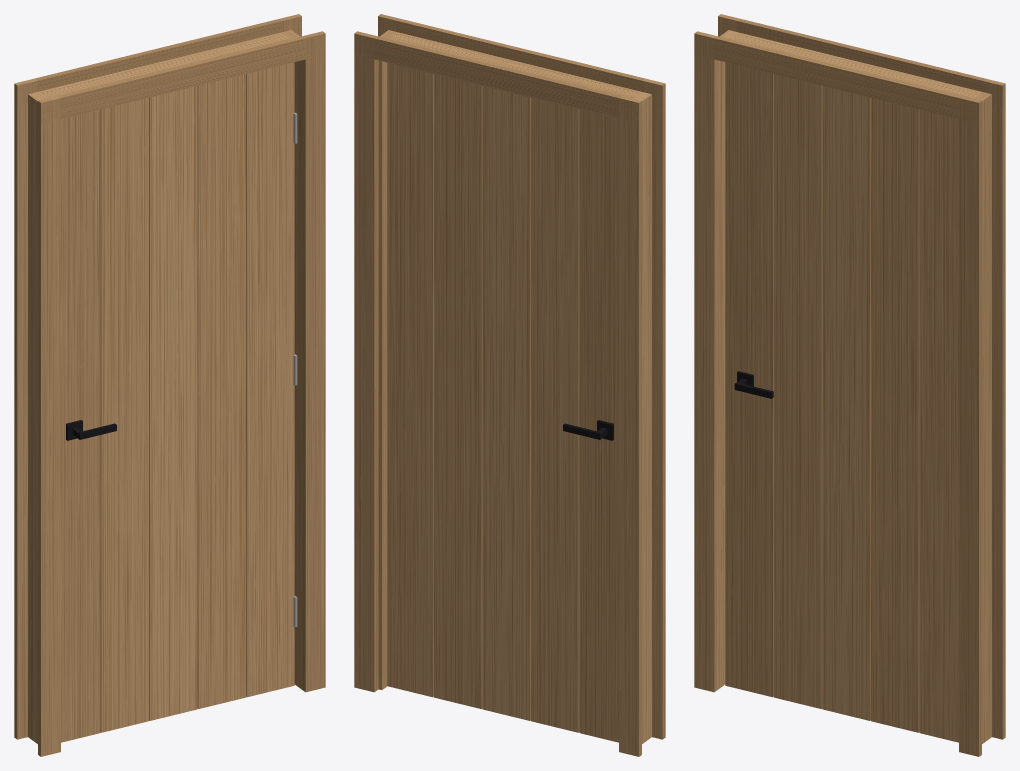
Rendered from door.glb.
3 renders of one model, left to right at view 1: azimuth 30°, elevation 25°; view 2: azimuth 150°, elevation 25°; view 3: azimuth 330°, elevation 25°, orthographic.
Parts seen in each view (by area): view 1: Door_Plank_3, Door_Plank_4, Door_Plank_5, Door_Plank_2, Door_Plank_1, Casing_Front_Right, Casing_Front_Left, Casing_Back_Left, Casing_Front_Top, Frame_Jamb_Left, Frame_Jamb_Right, Casing_Back_Top (+2 smaller); view 2: Door_Plank_3, Door_Plank_4, Door_Plank_2, Door_Plank_5, Door_Plank_1, Casing_Back_Right, Casing_Back_Left, Casing_Front_Left, Casing_Back_Top, Frame_Jamb_Left, Frame_Stop_Right, Casing_Front_Top (+3 smaller); view 3: Door_Plank_4, Door_Plank_3, Door_Plank_2, Door_Plank_1, Door_Plank_5, Casing_Front_Left, Casing_Front_Right, Casing_Back_Right, Casing_Front_Top, Frame_Jamb_Right, Frame_Jamb_Left, Casing_Back_Top (+2 smaller).
Part boxes in pixels (x1,y1,x2,y2): Door_Plank_3: (149, 86, 197, 720); Door_Plank_4: (197, 74, 245, 708); Door_Plank_5: (246, 62, 294, 697); Door_Plank_2: (100, 97, 148, 732); Door_Plank_1: (61, 109, 100, 742); Casing_Front_Right: (302, 31, 325, 692); Casing_Front_Left: (38, 96, 60, 756); Casing_Back_Left: (14, 78, 37, 739); Casing_Front_Top: (38, 33, 325, 123); Frame_Jamb_Left: (28, 92, 45, 743); Frame_Jamb_Right: (282, 30, 302, 689); Casing_Back_Top: (14, 17, 301, 106); Door_Plank_3: (482, 86, 530, 720); Door_Plank_4: (434, 74, 482, 708); Door_Plank_2: (531, 97, 579, 732); Door_Plank_5: (387, 62, 433, 697); Door_Plank_1: (579, 109, 618, 742); Casing_Back_Right: (354, 31, 377, 692); Casing_Back_Left: (619, 96, 641, 756); Casing_Front_Left: (642, 78, 665, 739); Casing_Back_Top: (354, 33, 641, 123); Frame_Jamb_Left: (634, 92, 651, 743); Frame_Stop_Right: (378, 60, 387, 689); Casing_Front_Top: (378, 16, 665, 106); Door_Plank_4: (871, 97, 919, 732); Door_Plank_3: (822, 86, 870, 720); Door_Plank_2: (774, 74, 822, 708); Door_Plank_1: (725, 62, 773, 697); Door_Plank_5: (919, 109, 958, 742); Casing_Front_Left: (694, 31, 717, 692); Casing_Front_Right: (959, 96, 981, 756); Casing_Back_Right: (982, 78, 1005, 739); Casing_Front_Top: (694, 33, 981, 123); Frame_Jamb_Right: (974, 92, 991, 743); Frame_Jamb_Left: (717, 30, 737, 689); Casing_Back_Top: (718, 16, 1005, 106).
Size of the model in its own units: 0.962 by 2.11 by 0.156.
Materials: 20 (18 with a texture image).
